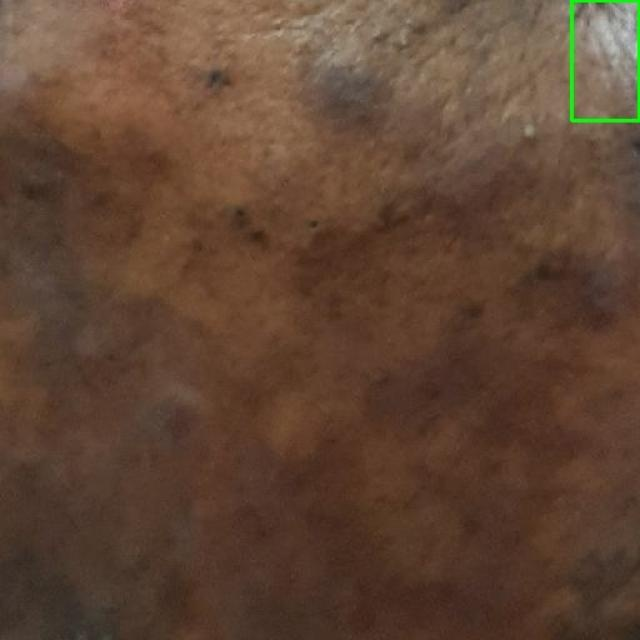Contact Dermatitis: (571, 0, 639, 120)
